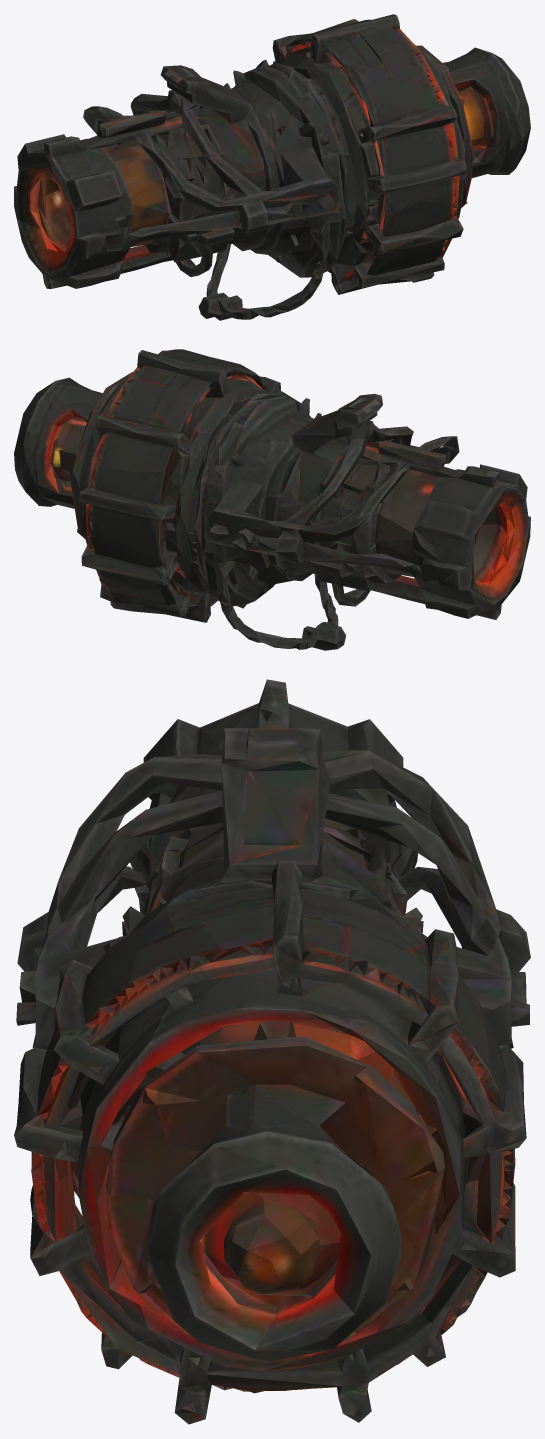
Rendered from mx_part_engine.glb.
3 renders of one model, top to bottom at view 1: azimuth 30°, elevation 25°; view 2: azimuth 150°, elevation 25°; view 3: azimuth 270°, elevation 25°, orthographic. The views are drawn at different scales.
Size of the model in its own units: 1.86 by 0.9792 by 0.9311.
1 material, 1 textured.
